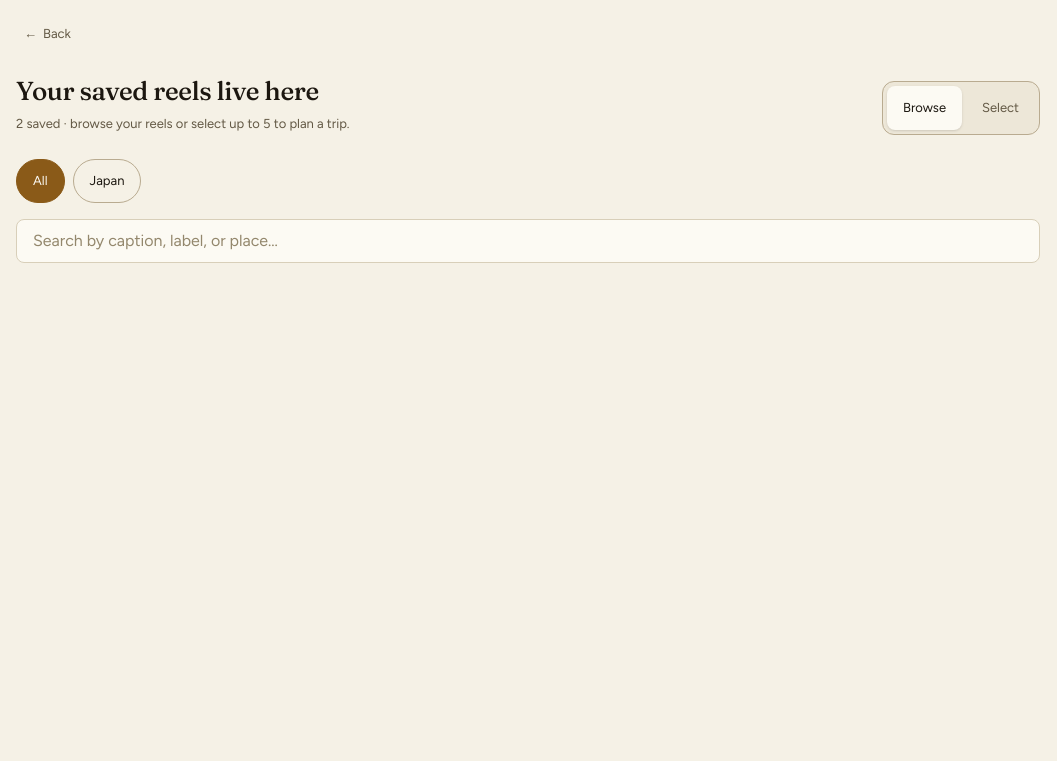
Test: LibraryPanel › shows a place count for an analyzed card and a status for an unanalyzed one
Click the button "Select" at coordinates (1000, 108), box [966,86,1035,130]
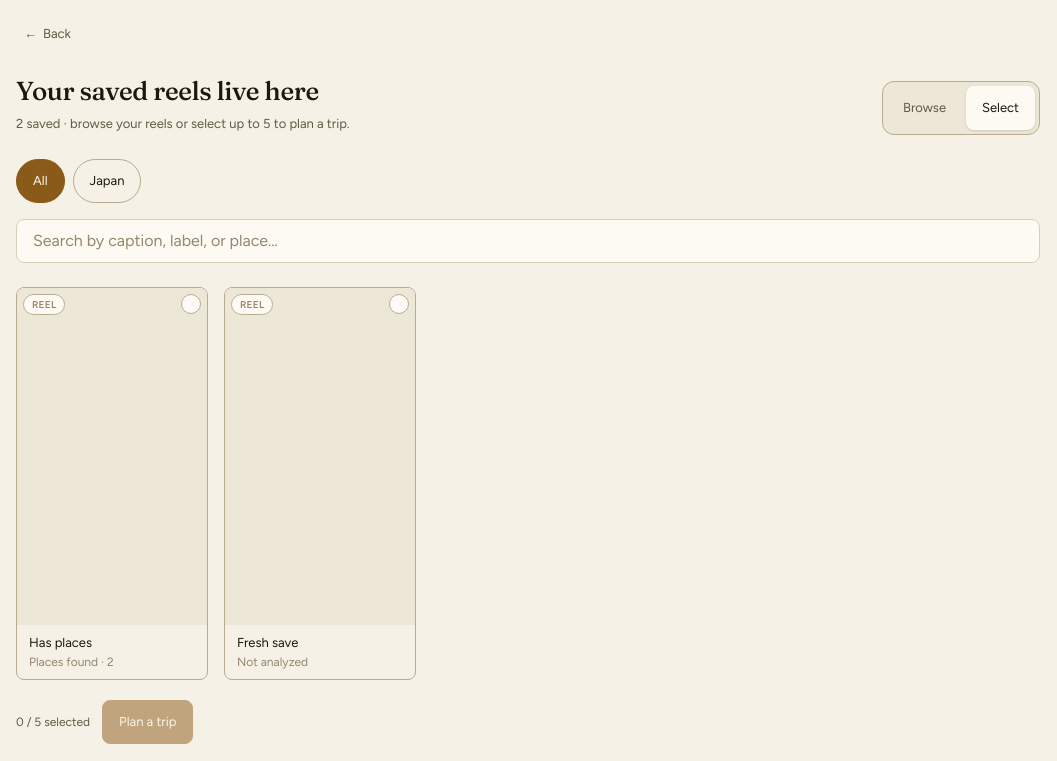
Result: the text "Places found · 2" is shown at [29,655,114,669]
Result: the text "Not analyzed" is shown at [237,655,308,669]
